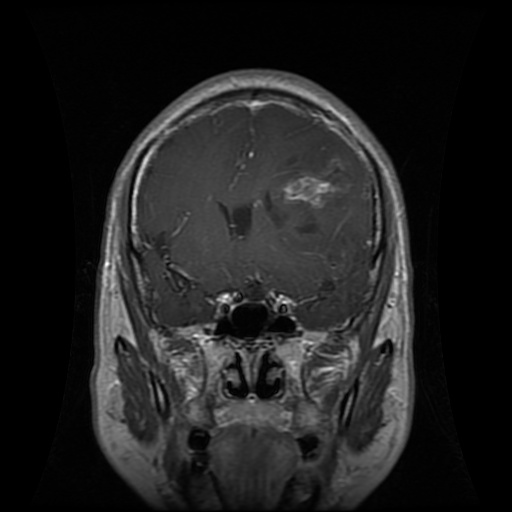glioma: (260, 152, 354, 239)
